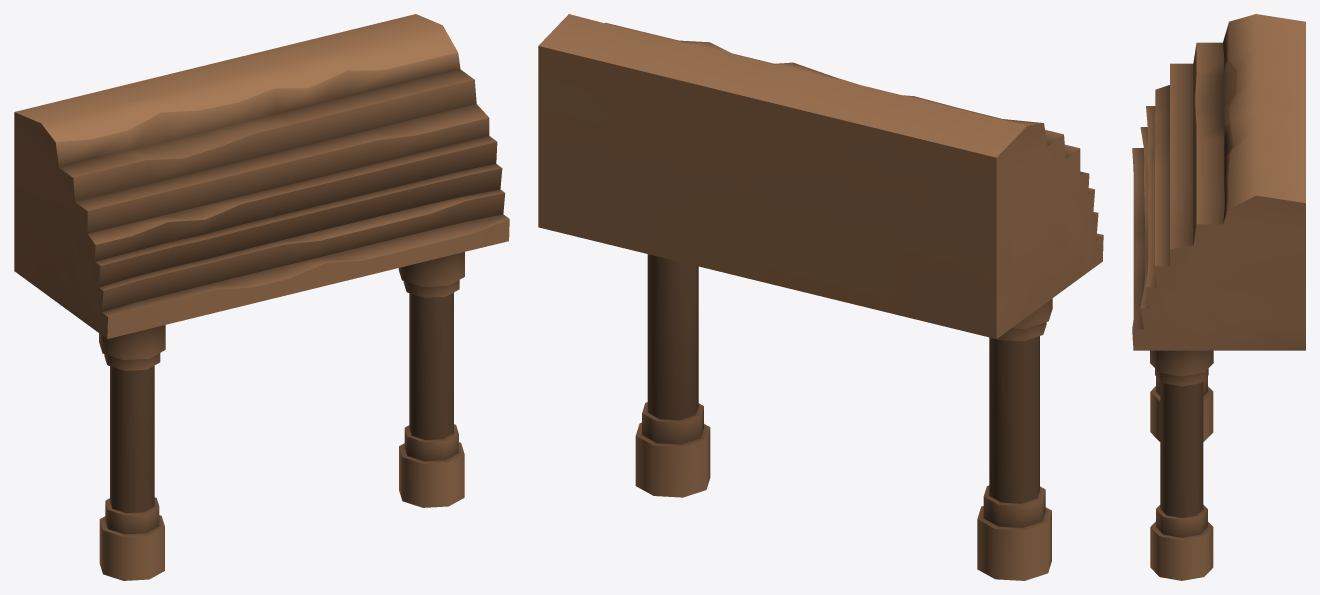
The model's file is Ruins_TempleRuins_alt07.glb.
3 views of the same model, side by side, from view 1: azimuth 30°, elevation 25°; view 2: azimuth 150°, elevation 25°; view 3: azimuth 270°, elevation 25° (orthographic). The views are drawn at different scales.
Parts seen in each view (by area): view 1: base163; view 2: base163; view 3: base163.
Part boxes in pixels (box(x1,y1,x2,y2)): base163: box(14, 14, 509, 580); base163: box(538, 14, 1103, 580); base163: box(1132, 14, 1305, 580).
Bounding box in the file's own units: 6.36 × 6.46 × 2.57.
